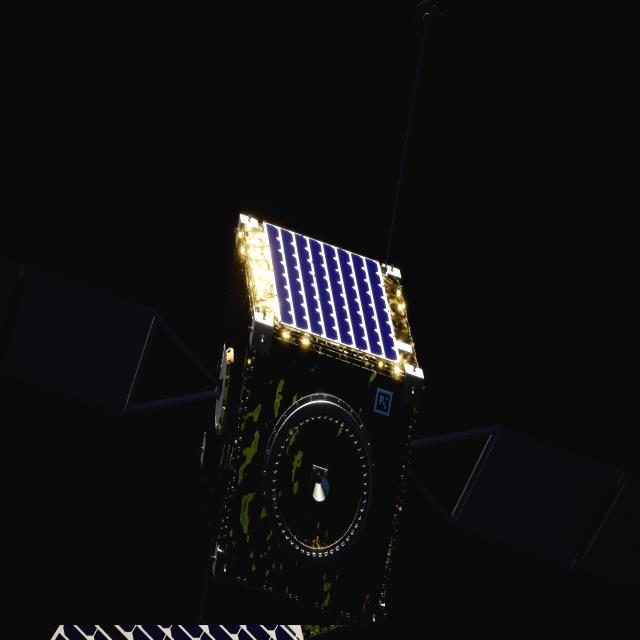satellite: (0, 216, 628, 619)
